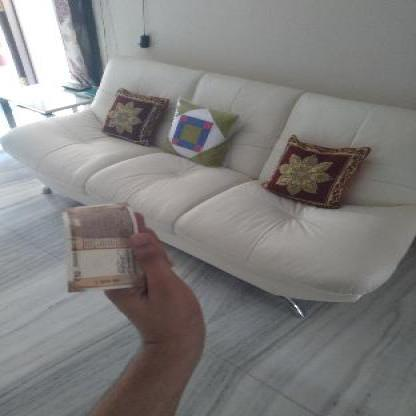New10Back: (66, 204, 142, 290)
